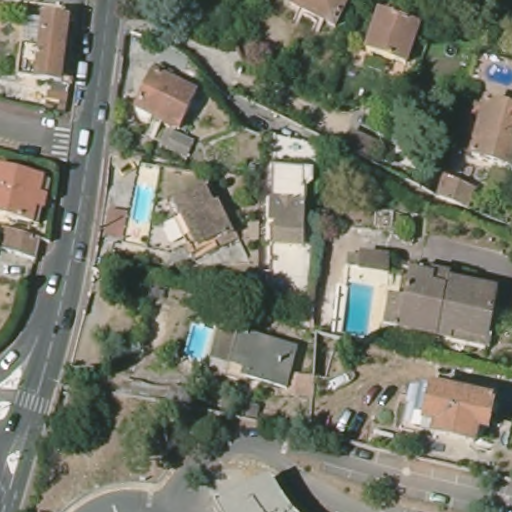pool: (341, 279, 377, 342), (186, 321, 215, 366), (130, 184, 155, 225), (487, 61, 512, 87)
